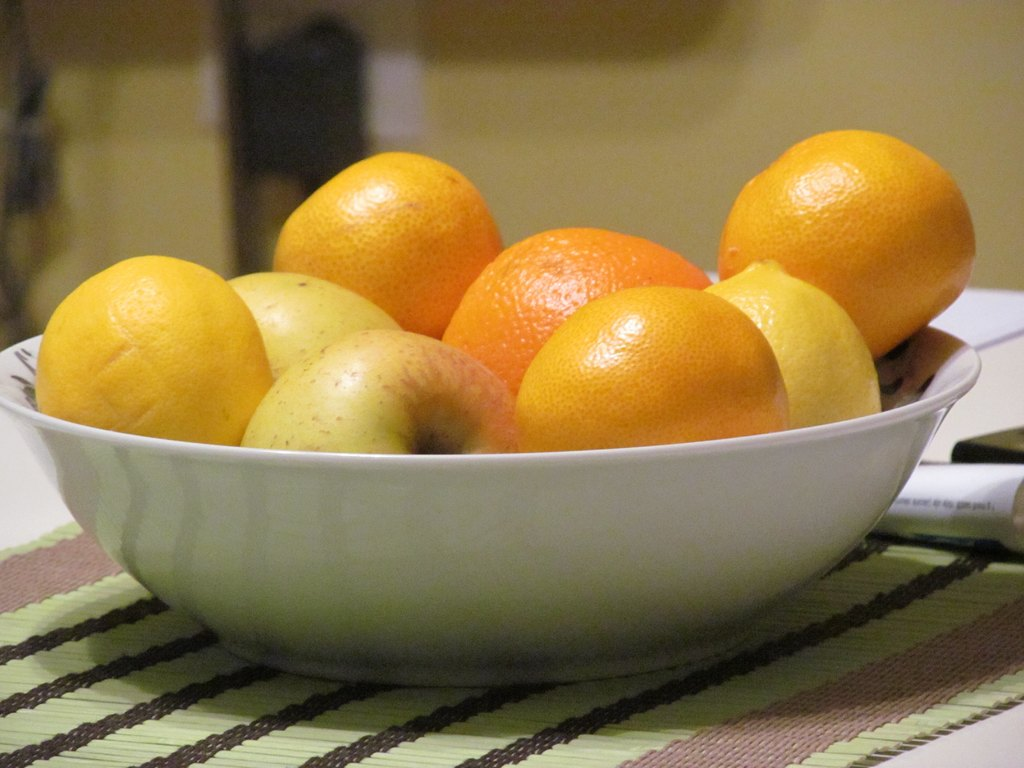Ripe: (712, 126, 973, 348), (19, 256, 268, 449), (443, 224, 714, 394), (269, 152, 514, 331)
